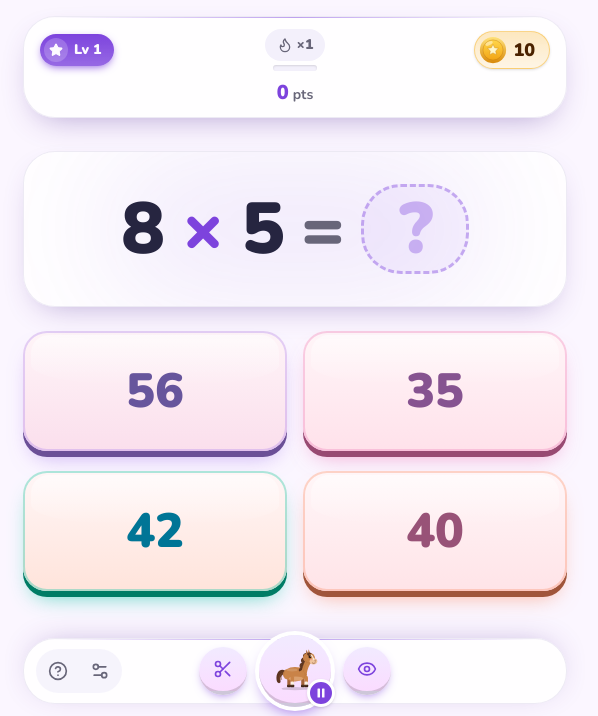
Test: GameScreen › charges the first-mistake penalty and shows the escalating one
Step 1. Click the button "56" → click(155, 391), box [23,331,287,451]
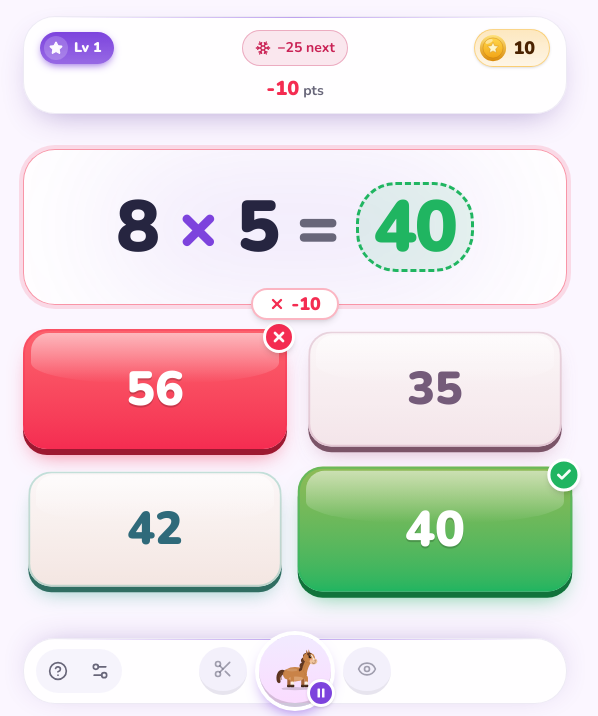
Result: the text "-10" is shown 2 times at [266,79,299,99]; [291,290,321,318]
Result: the text "−25 next" is shown at [277,38,335,58]
